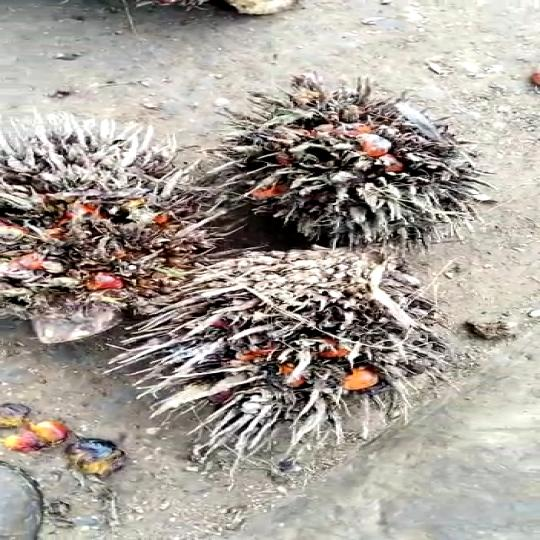terlalu masak: (109, 244, 446, 456), (0, 124, 245, 335), (222, 74, 486, 250)
